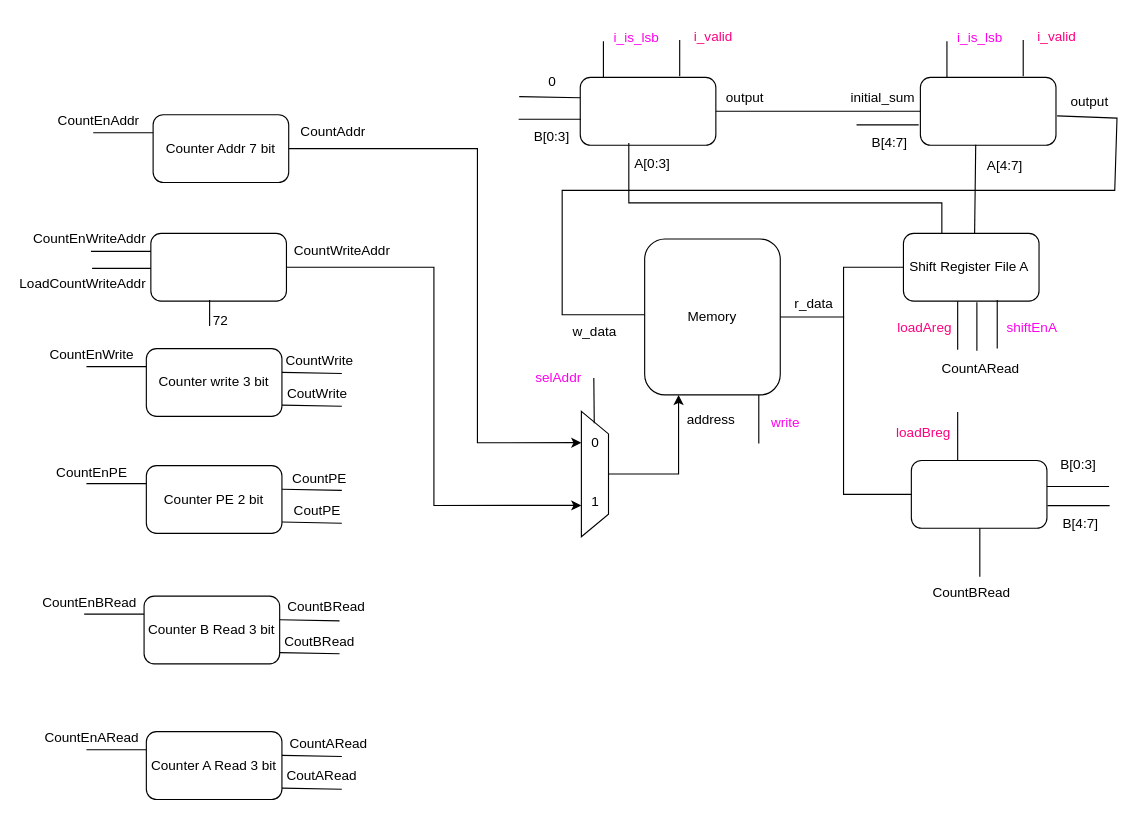
This 1142x819 diagram has some shape labels left out. The centre of each missing label's shape, as x and y in pixels:
"Counter Write Addr 7 bit" goes at [218,266].
"PE_LSB" goes at [647,110].
"PE_MSB" goes at [987,110].
"Register File B" goes at [978,493].
